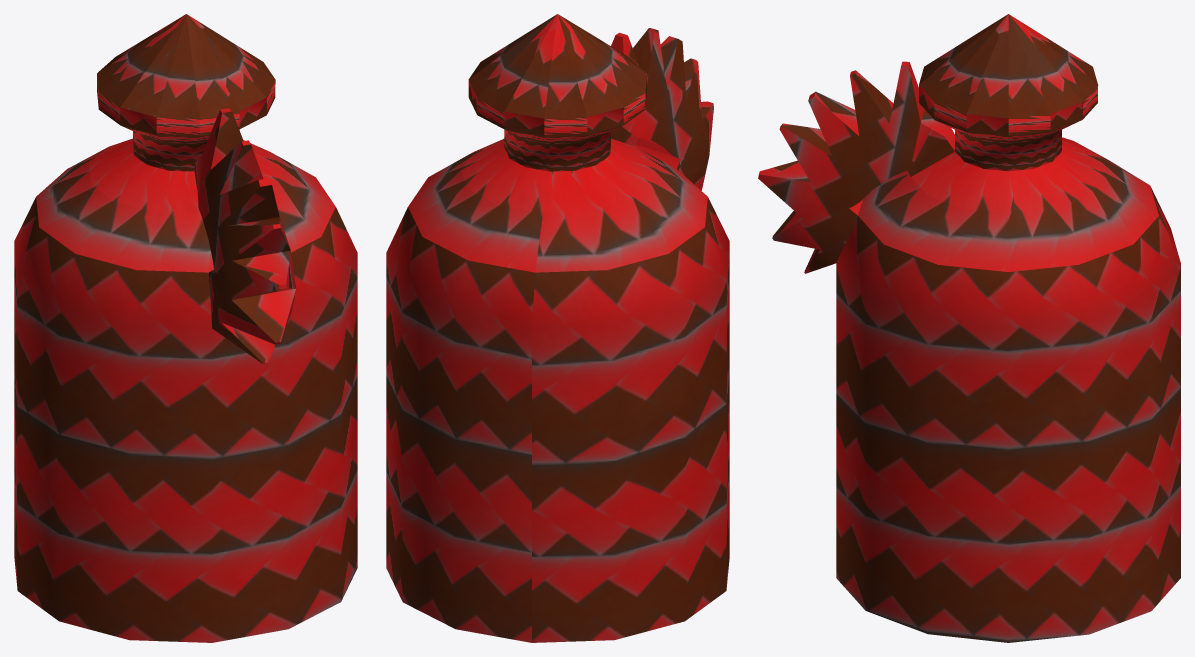
The model's file is jug.fbx.
The picture shows the model from 3 angles, left to right: view 1: azimuth 30°, elevation 25°; view 2: azimuth 150°, elevation 25°; view 3: azimuth 270°, elevation 25°; orthographic projection.
Visible parts, largest first — view 1: pCylinder2; view 2: pCylinder2; view 3: pCylinder2.
Part boxes in pixels (bbox=[...]): pCylinder2: bbox=[14, 14, 357, 642]; pCylinder2: bbox=[386, 14, 729, 642]; pCylinder2: bbox=[758, 14, 1180, 642].
Bounding box in the file's own units: 1.97 × 3.54 × 2.44.
Materials: 1 (1 with a texture image).
